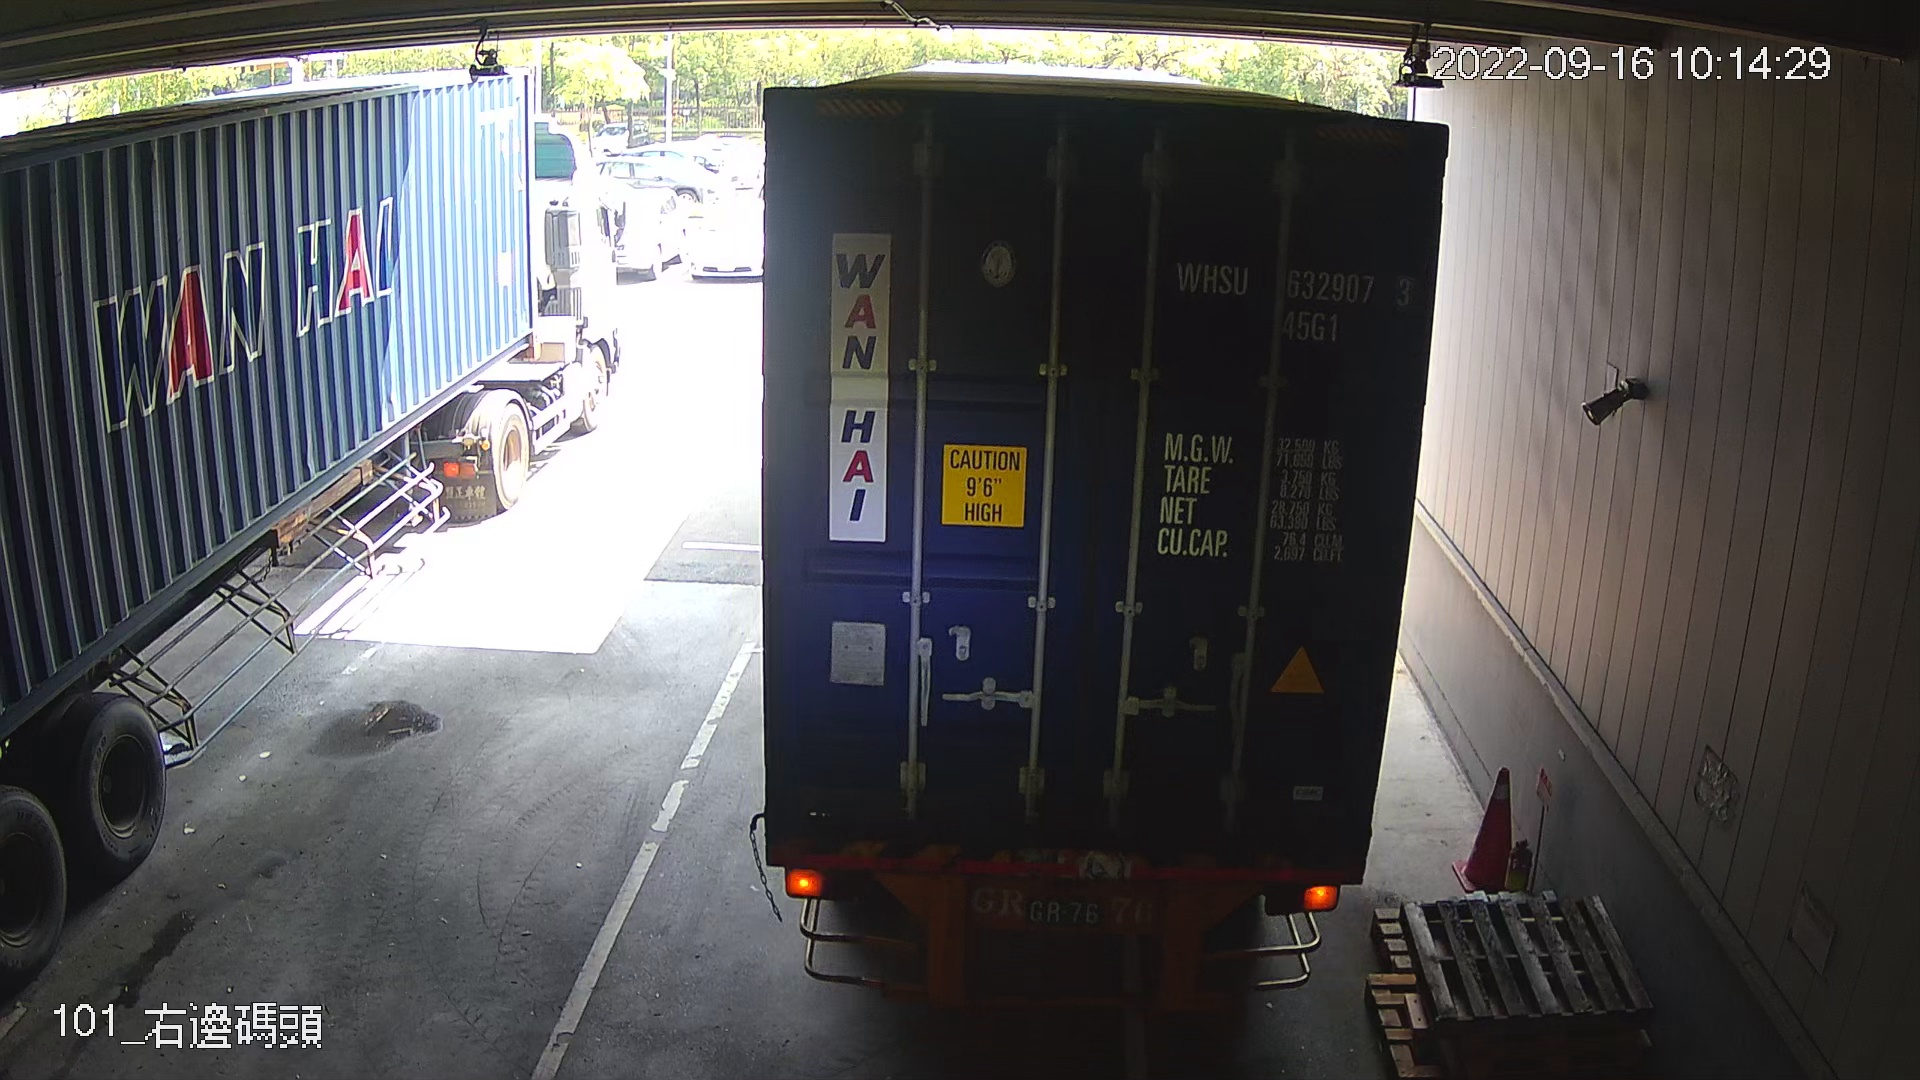container: (1163, 249, 1422, 349)
